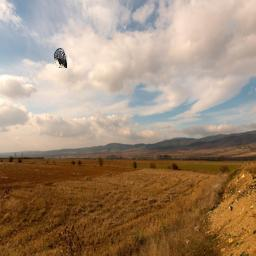Crow: (55, 48, 68, 68)
